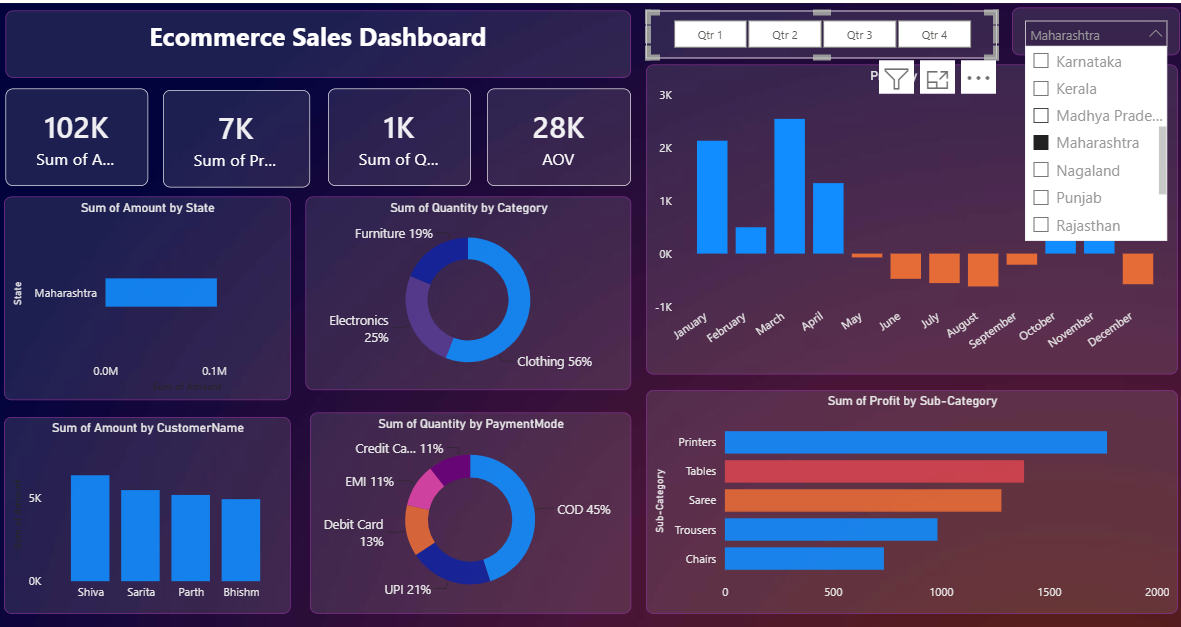

This screenshot's page, from the dashboard's own definition file:
{"tool":"powerbi","page":{"name":"Page 1","canvas":[1280,720],"ordinal":0},"visuals":[{"type":"textbox","box":[17.5,30.2,663.3,71.6],"z":0},{"type":"columnChart","title":"Profit by Month","fields":{"Y":["Sum(Details.Profit)"],"Category":["Orders.Order Date.Variation.Date Hierarchy.Month"]},"box":[696.1,88,564.1,328.9],"z":1000},{"type":"barChart","fields":{"Category":["Details.Sub-Category"],"Y":["Sum(Details.Profit)"]},"box":[696.1,432.2,564.1,237.1],"z":2000},{"type":"donutChart","fields":{"Category":["Details.Category"],"Y":["Sum(Details.Quantity)"]},"box":[335.6,227.5,345.2,205.2],"z":3000},{"type":"donutChart","fields":{"Category":["Details.PaymentMode"],"Y":["Sum(Details.Quantity)"]},"box":[340.4,456.5,340.4,213.1],"z":4000},{"type":"cardVisual","fields":{"Data":["Sum(Details.Amount)"]},"box":[17.5,112.9,151.1,103.4],"z":5000},{"type":"cardVisual","fields":{"Data":["Sum(Details.Profit)"]},"box":[184.5,114.5,155.9,103.4],"z":6000},{"type":"cardVisual","fields":{"Data":["Sum(Details.Quantity)"]},"box":[359.5,112.9,151.1,103.4],"z":7000},{"type":"cardVisual","fields":{"Data":["Sum(Details.AOV)"]},"box":[528.1,112.9,152.7,103.4],"z":8000},{"type":"barChart","fields":{"Category":["Orders.State"],"Y":["Sum(Details.Amount)"]},"box":[15.9,227.5,303.8,216.3],"z":9000},{"type":"columnChart","fields":{"Category":["Orders.CustomerName"],"Y":["Sum(Details.Amount)"]},"box":[15.3,460.9,304.1,208.4],"z":10000},{"type":"slicer","fields":{"Values":["Orders.Order Date.Variation.Date Hierarchy.Quarter"]},"box":[696.7,30.2,372.2,50.9],"z":11000},{"type":"slicer","fields":{"Values":["Orders.State"]},"box":[1084.8,27,178.1,50.9],"z":12000}]}

Visuals, with their boxes on the page's 1280x720 design canvas (x1, y1, x2, y2). These are canvas units, not pixel positions in the 1181x627 screenshot, which may show the page scaled, cropped or inside an application window:
textbox: <box>18,30,681,102</box>
"Profit by Month" columnChart: <box>696,88,1260,417</box>
barChart - Details.Sub-Category x Sum(Details.Profit): <box>696,432,1260,669</box>
donutChart - Details.Category x Sum(Details.Quantity): <box>336,228,681,433</box>
donutChart - Details.PaymentMode x Sum(Details.Quantity): <box>340,456,681,670</box>
cardVisual - Sum(Details.Amount): <box>18,113,169,216</box>
cardVisual - Sum(Details.Profit): <box>184,114,340,218</box>
cardVisual - Sum(Details.Quantity): <box>360,113,511,216</box>
cardVisual - Sum(Details.AOV): <box>528,113,681,216</box>
barChart - Orders.State x Sum(Details.Amount): <box>16,228,320,444</box>
columnChart - Orders.CustomerName x Sum(Details.Amount): <box>15,461,319,669</box>
slicer - Orders.Order Date.Variation.Date Hierarchy.Quarter: <box>697,30,1069,81</box>
slicer - Orders.State: <box>1085,27,1263,78</box>
